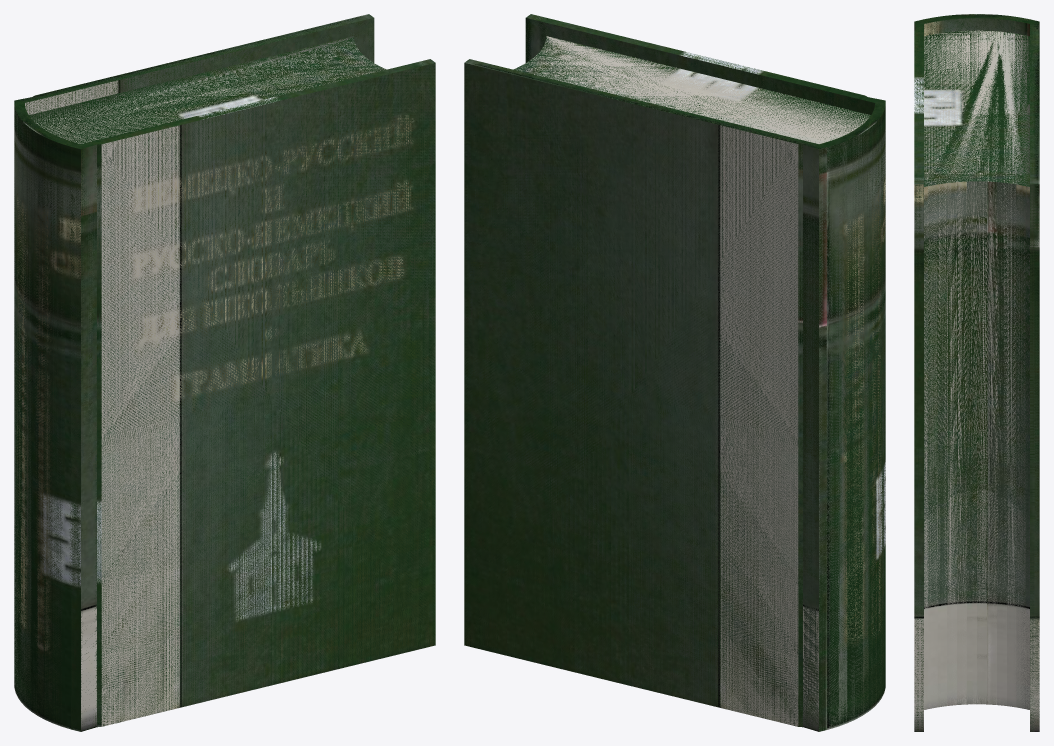
The model's file is book.dae.
The picture shows the model from 3 angles, left to right: view 1: azimuth 30°, elevation 25°; view 2: azimuth 150°, elevation 25°; view 3: azimuth 270°, elevation 25°; orthographic projection. The views are drawn at different scales.
Parts seen in each view (by area): view 1: group_0; view 2: group_0; view 3: group_0 (×2).
Boxes of the visible parts, x1,y1,x2,y2 form: group_0: [14, 14, 435, 731]; group_0: [464, 14, 885, 731]; group_0 (×2): [914, 14, 1039, 731].
Size of the model in its own units: 3.54 by 1.1 by 5.31.
3 materials, 3 textured.
